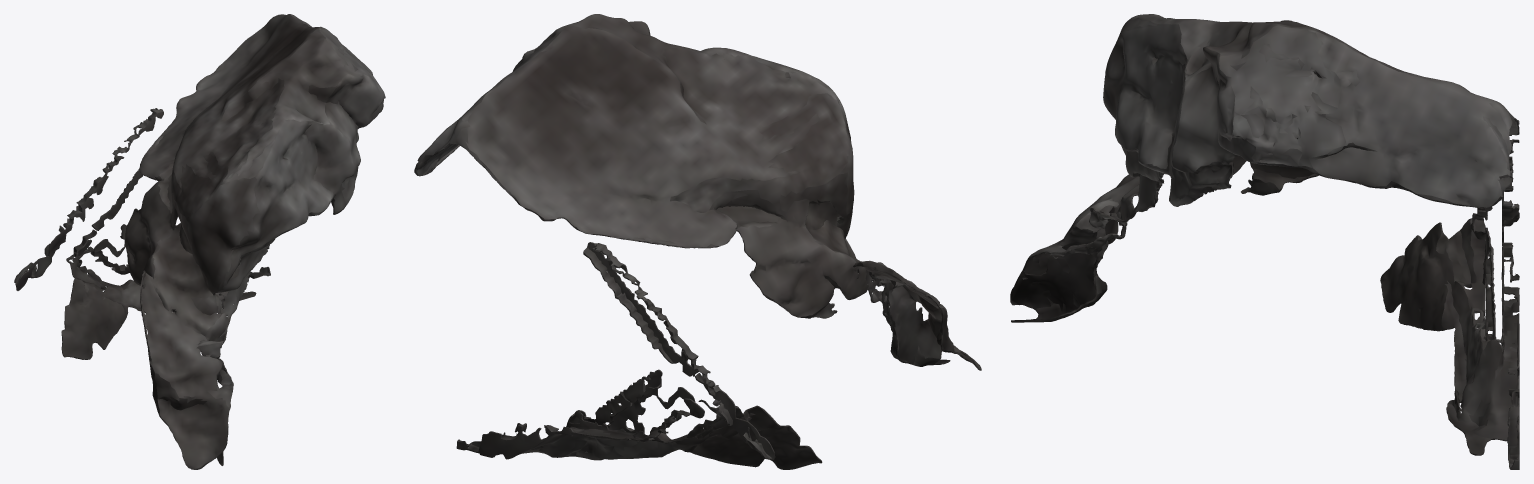
The picture shows the model from 3 angles, left to right: view 1: azimuth 30°, elevation 25°; view 2: azimuth 150°, elevation 25°; view 3: azimuth 270°, elevation 25°; orthographic projection. The views are drawn at different scales.
Visible parts, largest first — view 1: world; view 2: world; view 3: world.
Boxes of the visible parts, x1=… form: world: x1=14, y1=14, x2=385, y2=469; world: x1=414, y1=14, x2=981, y2=469; world: x1=1010, y1=14, x2=1519, y2=469.
Bounding box in the file's own units: 3.5 × 3.41 × 3.64.
1 material, 1 textured.
